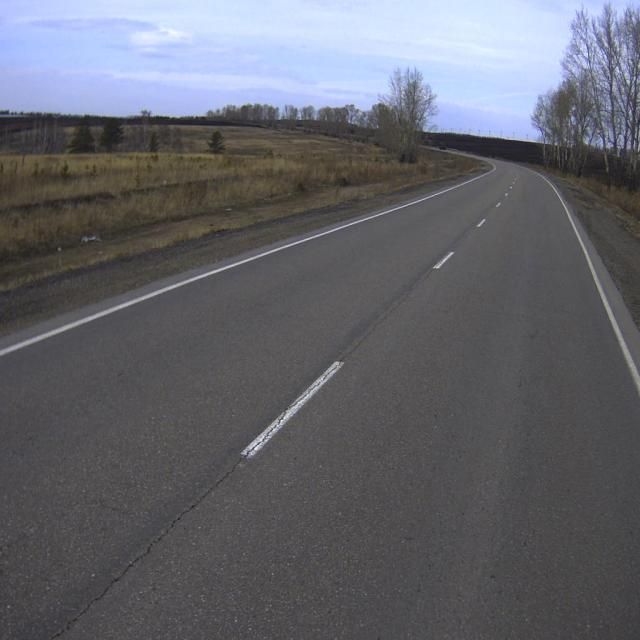road: (0, 159, 640, 639)
